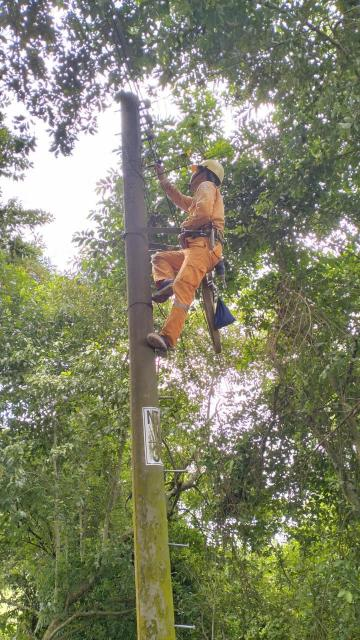harness: (177, 225, 243, 254)
helmet: (189, 155, 233, 185)
shoes: (142, 328, 193, 364), (143, 277, 184, 308)
